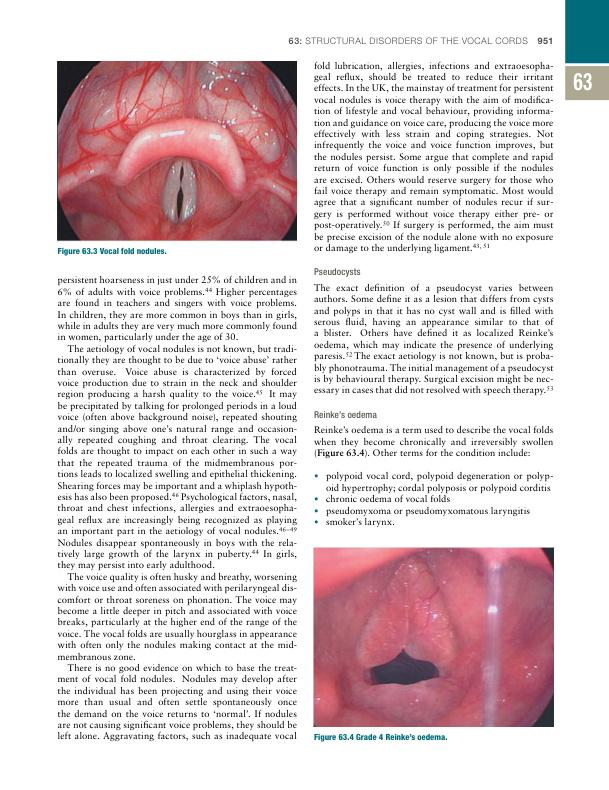caption: (313, 732, 448, 743), (56, 246, 167, 257)
header: (287, 35, 530, 45)
image: (56, 60, 298, 242), (312, 546, 554, 727)
list: (313, 471, 554, 528)
sub-section-heading: (313, 410, 378, 419), (313, 267, 361, 278)
text: (56, 274, 299, 743), (312, 60, 555, 255), (312, 283, 555, 397), (313, 425, 554, 459)
